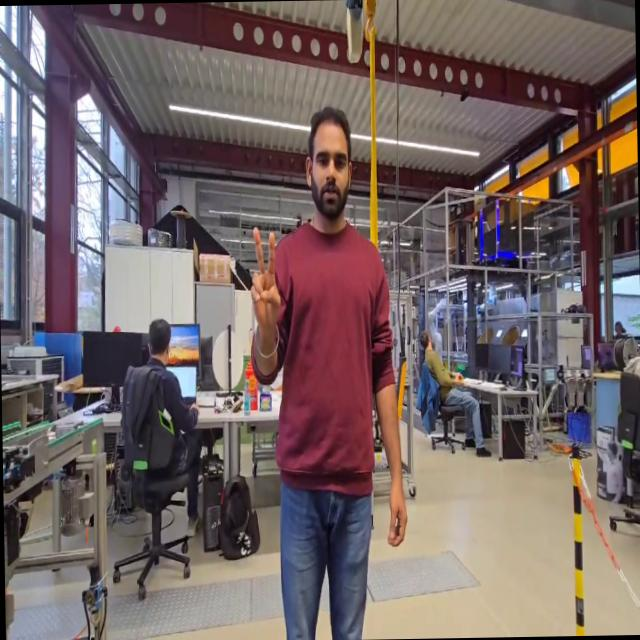v_sign: (246, 223, 284, 339)
